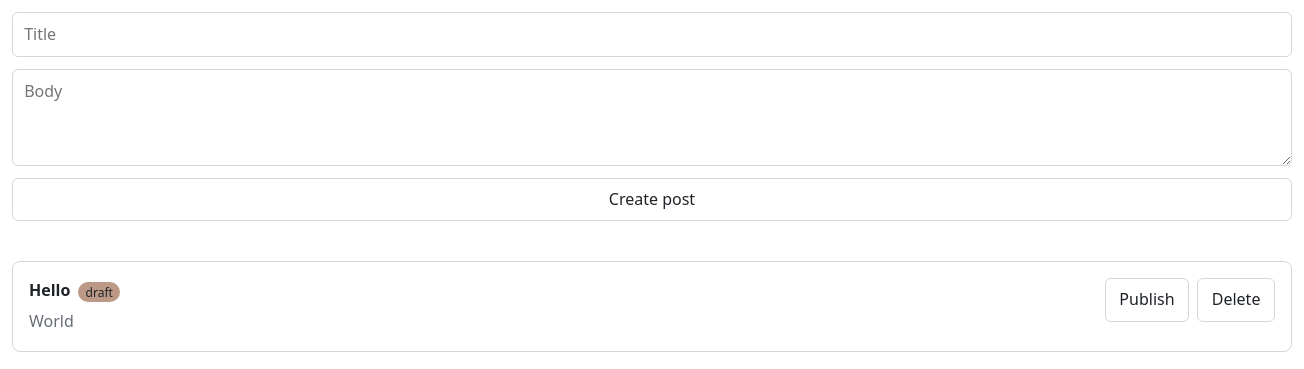
PostsPanel › toggles published state
Step 1. Click the button "Publish" → (1147, 300), box x1=1105 y1=278 x2=1189 y2=322
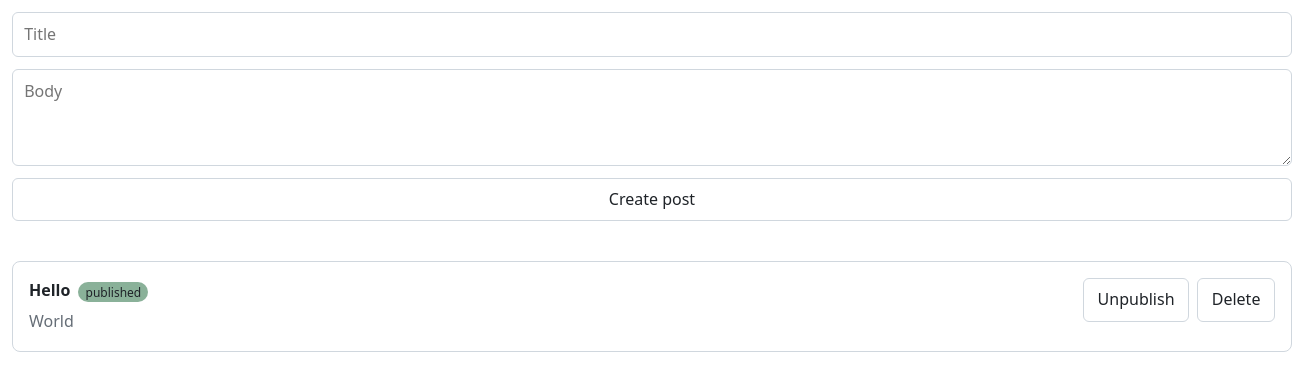
Check: the text "published" is shown, box x1=78 y1=282 x2=148 y2=302
